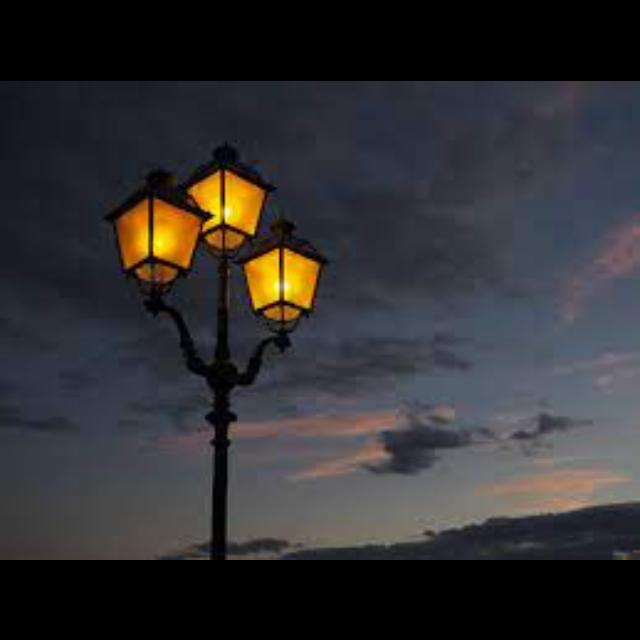Street-Lamp: (94, 110, 332, 560)
